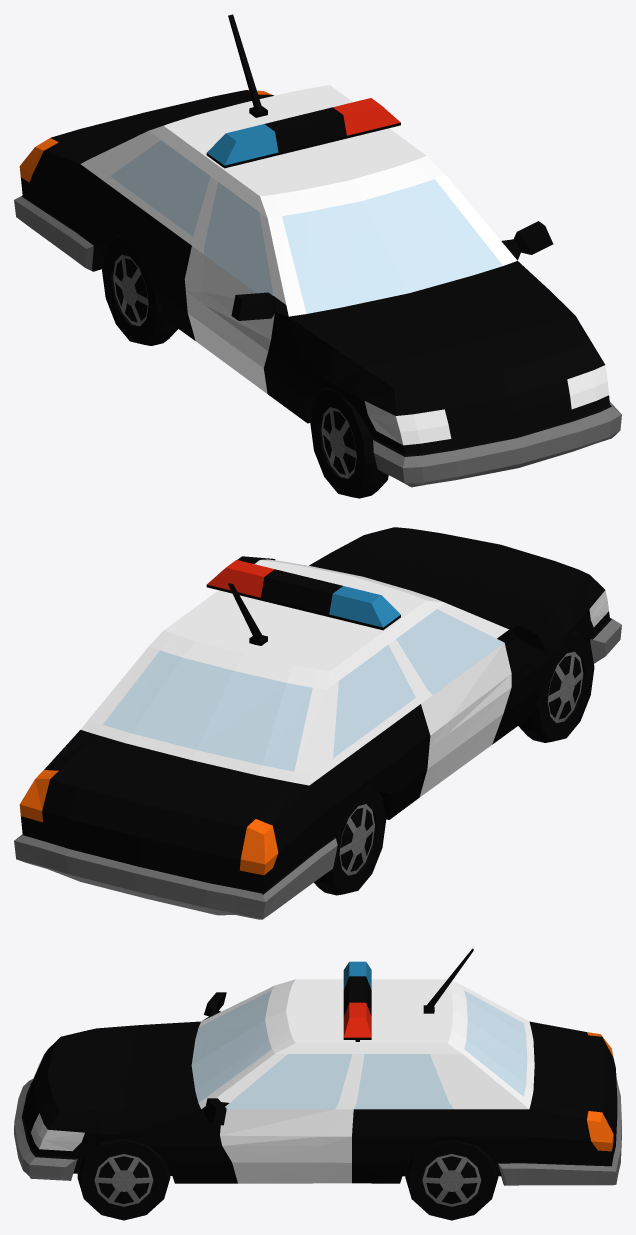
File: policecar.glb
3 views of the same model, one above another, from view 1: azimuth 30°, elevation 25°; view 2: azimuth 150°, elevation 25°; view 3: azimuth 270°, elevation 25° (orthographic). The views are drawn at different scales.
Parts seen in each view (by area): view 1: Police_Car; view 2: Police_Car; view 3: Police_Car.
Boxes of the visible parts, box(x1,y1,x2,y2) form: Police_Car: box(14, 14, 621, 498); Police_Car: box(14, 527, 621, 919); Police_Car: box(14, 948, 621, 1220).
Bounding box in the file's own units: 2.07 × 1.83 × 4.4.
Materials: 1 (1 with a texture image).
